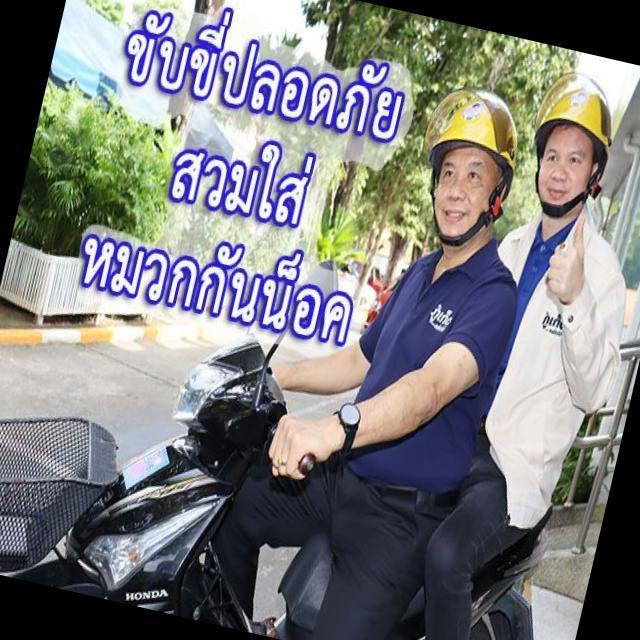helmet on: (396, 71, 544, 283), (511, 61, 629, 251)
